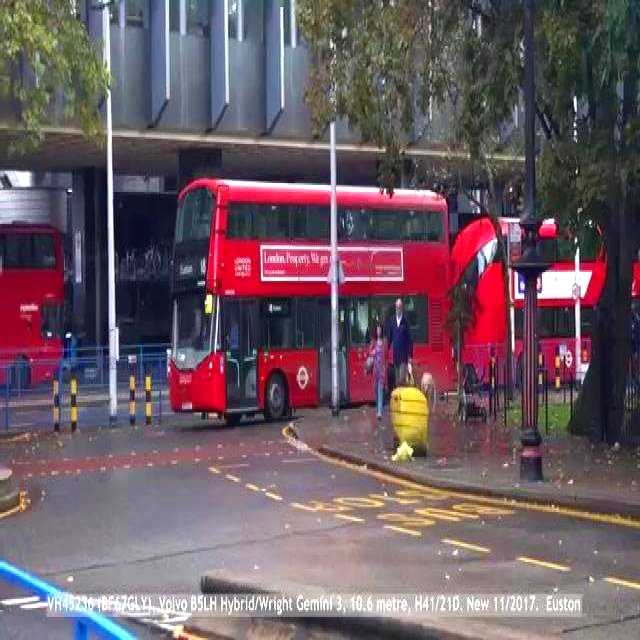bus: (134, 125, 528, 429)
